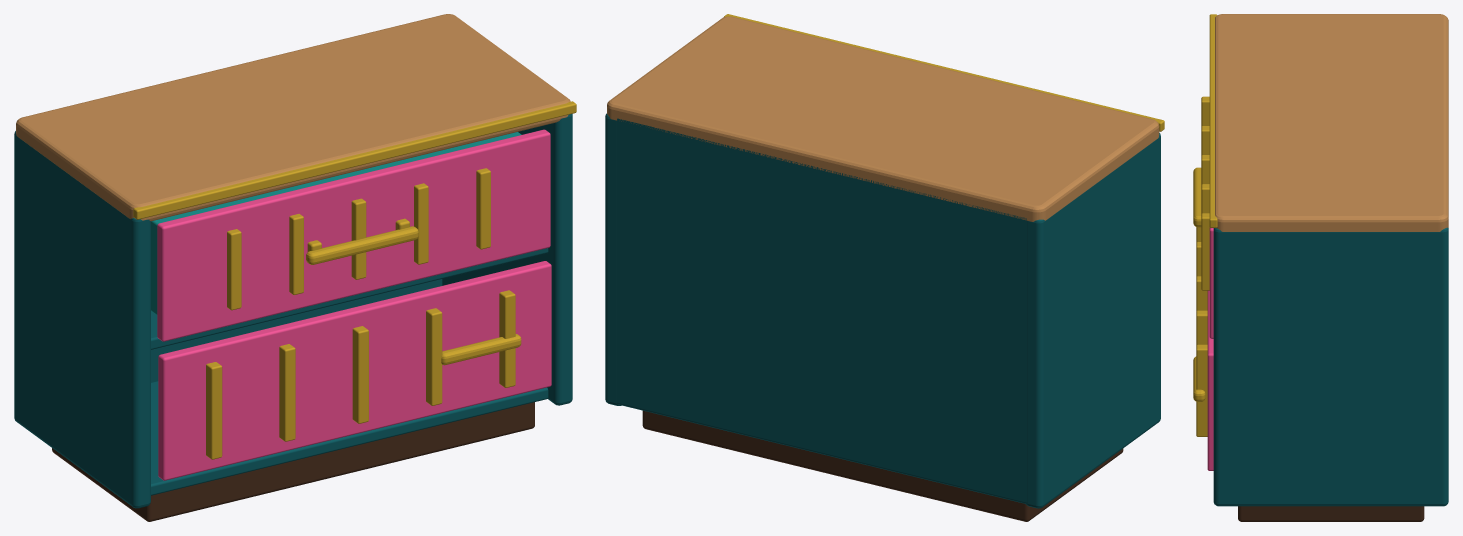
File: reception-cabinet.glb
3 renders of one model, left to right at view 1: azimuth 30°, elevation 25°; view 2: azimuth 150°, elevation 25°; view 3: azimuth 270°, elevation 25°, orthographic. The views are drawn at different scales.
Parts seen in each view (by area): view 1: top, door.panel, drawer.front, side.left, plinth, side.right, bottom, top.nose, shelf.mid, back, drawer.body, drawer.bar (+11 smaller); view 2: back, top, side.left, plinth, side.right, top.nose; view 3: side.right, top, plinth, top.nose, door.panel, door.flute.4, drawer.flute.4, drawer.front, drawer.bar, door.flute.3, door.flute.2.
Boxes of the visible parts, x1,y1,x2,y2 form: top: (16, 14, 570, 221); door.panel: (158, 261, 551, 480); drawer.front: (157, 129, 550, 341); side.left: (14, 131, 150, 508); plinth: (52, 402, 534, 521); side.right: (442, 114, 572, 405); bottom: (151, 381, 548, 495); top.nose: (133, 101, 576, 219); shelf.mid: (151, 248, 548, 349); back: (151, 279, 442, 382); drawer.body: (151, 132, 521, 314); drawer.bar: (306, 226, 418, 264); back: (616, 118, 1027, 503); top: (607, 16, 1159, 221); side.left: (1026, 133, 1160, 508); plinth: (642, 410, 1123, 521); side.right: (605, 113, 621, 405); top.nose: (724, 14, 1164, 131); side.right: (1213, 227, 1448, 506); top: (1215, 14, 1448, 231); plinth: (1238, 506, 1424, 521); top.nose: (1209, 14, 1217, 227); door.panel: (1207, 290, 1213, 470); door.flute.4: (1196, 344, 1207, 436); drawer.flute.4: (1201, 213, 1209, 290); drawer.front: (1209, 227, 1213, 338); drawer.bar: (1193, 167, 1201, 227); door.flute.3: (1196, 310, 1207, 345); door.flute.2: (1196, 276, 1207, 311).
Bounding box in the file's own units: 1.2 × 0.864 × 0.63.
